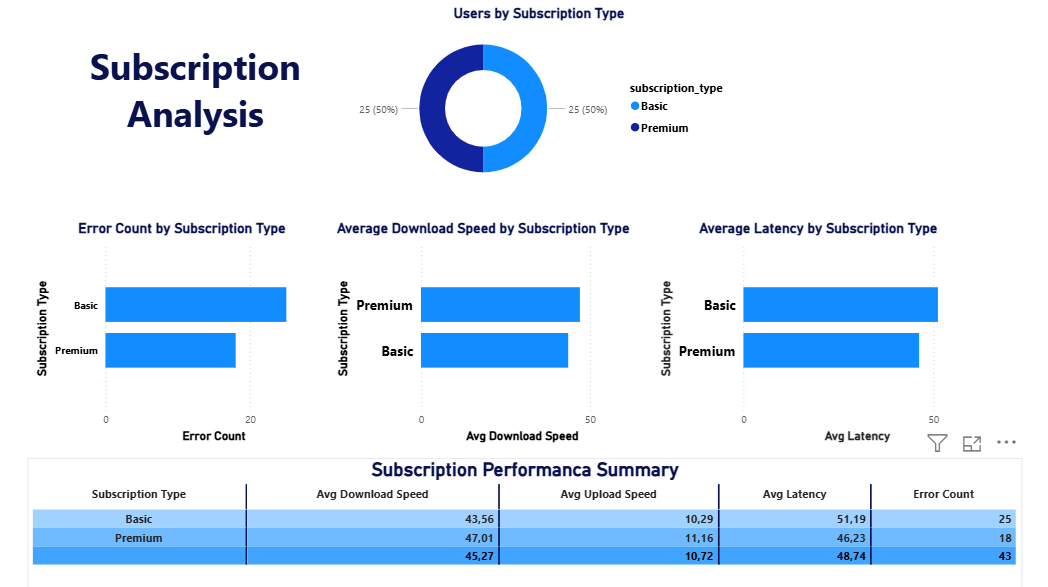

The dashboard page shown, as its layout file describes it:
{"tool":"powerbi","page":{"name":"Subsciption Analysis","canvas":[1280,720],"ordinal":2},"visuals":[{"type":"textbox","box":[43.3,51.7,391.7,151.7],"z":0},{"type":"clusteredBarChart","title":"Average Download Speed by Subscription Type","fields":{"Category":["Users.subscription_type"],"Y":["Avg(Network_Logs.download_speed)"]},"box":[403.3,270,360,271.7],"z":1000},{"type":"clusteredBarChart","title":"Average Latency by Subscription Type","fields":{"Category":["Users.subscription_type"],"Y":["Avg(Network_Logs.latency)"]},"box":[788.3,270,390,271.7],"z":2000},{"type":"donutChart","title":"Users by Subscription Type","fields":{"Category":["Users.subscription_type"],"Y":["CountNonNull(Users.user_id)"]},"box":[403.3,13.3,493.3,230],"z":3000},{"type":"clusteredBarChart","title":"Error Count by Subscription Type","fields":{"Category":["Users.subscription_type"],"Y":["CountNonNull(Errors.error_id)"]},"box":[43.3,270,360,271.7],"z":4000},{"type":"tableEx","title":"Subscription Performance Summary","fields":{"Values":["Users.subscription_type","Avg(Network_Logs.download_speed)","Avg(Network_Logs.upload_speed)","Avg(Network_Logs.latency)","CountNonNull(Errors.error_id)"]},"box":[38.3,555,1188.3,165],"z":5000}]}

Visuals, with their boxes in screenshot pixels (x1, y1, x2, y2), scaled from the page's 1280x720 canvas onto the 1048x587 screenshot:
textbox: {"left": 35, "top": 42, "right": 356, "bottom": 166}
"Average Download Speed by Subscription Type" clusteredBarChart: {"left": 330, "top": 220, "right": 625, "bottom": 442}
"Average Latency by Subscription Type" clusteredBarChart: {"left": 645, "top": 220, "right": 965, "bottom": 442}
"Users by Subscription Type" donutChart: {"left": 330, "top": 11, "right": 734, "bottom": 198}
"Error Count by Subscription Type" clusteredBarChart: {"left": 35, "top": 220, "right": 330, "bottom": 442}
"Subscription Performance Summary" tableEx: {"left": 31, "top": 452, "right": 1004, "bottom": 586}
